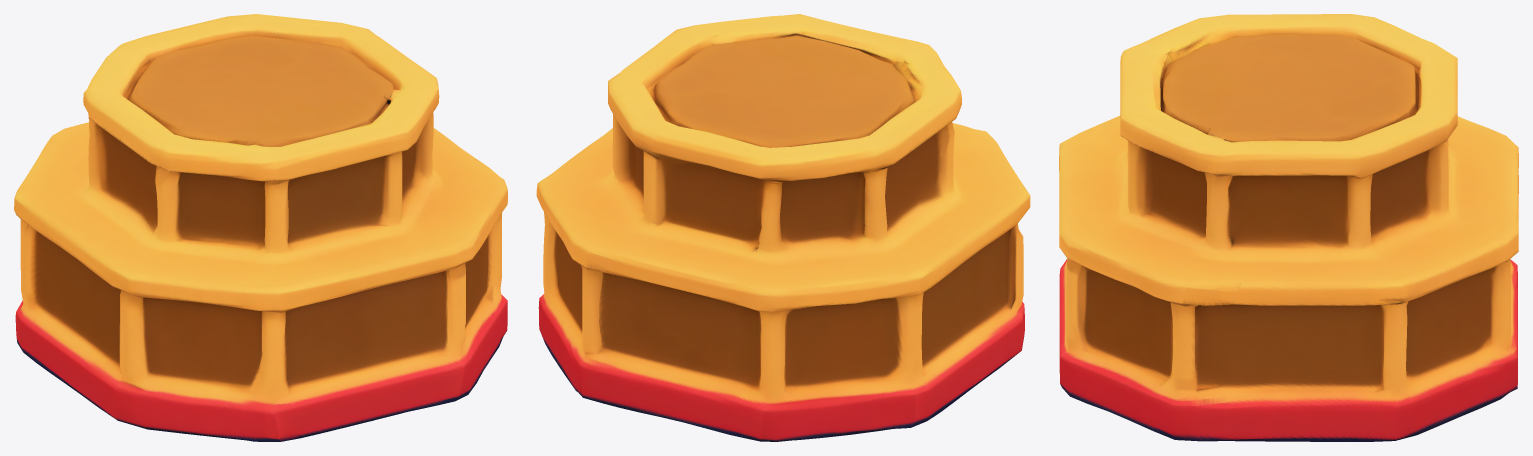
File: 03-island.fbx
3 views of the same model, side by side, from view 1: azimuth 30°, elevation 25°; view 2: azimuth 150°, elevation 25°; view 3: azimuth 270°, elevation 25° (orthographic). The views are drawn at different scales.
Parts seen in each view (by area): view 1: model; view 2: model; view 3: model.
Part boxes in pixels (x1=…): model: x1=14, y1=14, x2=507, y2=441; model: x1=536, y1=14, x2=1030, y2=441; model: x1=1059, y1=14, x2=1518, y2=441.
Bounding box in the file's own units: 189 × 119 × 189.
